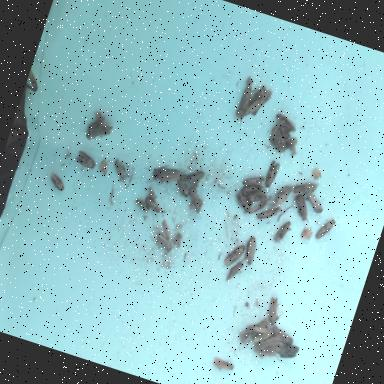pbw: (243, 85, 274, 123), (261, 290, 288, 328), (288, 192, 318, 226), (148, 158, 182, 188), (206, 351, 240, 378), (220, 241, 247, 273), (246, 322, 276, 348), (292, 174, 320, 200), (272, 179, 294, 211), (254, 201, 282, 226), (151, 228, 177, 254), (314, 215, 337, 244), (270, 217, 292, 247), (221, 258, 244, 286), (72, 148, 100, 170), (306, 190, 328, 218), (240, 236, 260, 266), (262, 160, 282, 190), (268, 328, 295, 350), (84, 122, 109, 145), (273, 112, 298, 134), (109, 159, 130, 183), (172, 174, 193, 198), (142, 193, 164, 215), (246, 197, 268, 219), (268, 134, 290, 156), (46, 171, 67, 194), (240, 171, 264, 191), (246, 186, 270, 206), (158, 216, 176, 240), (232, 192, 252, 212), (129, 196, 151, 214), (187, 191, 206, 211), (240, 185, 258, 199)
